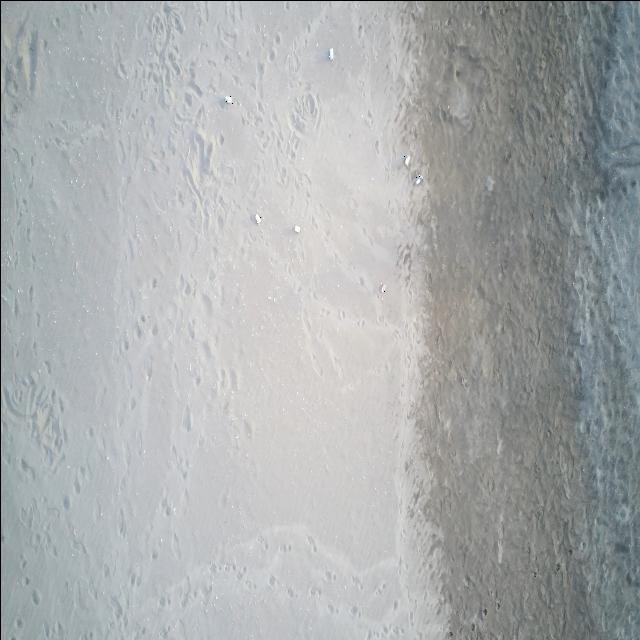Garbage: (413, 173, 423, 183), (403, 154, 409, 166), (292, 224, 300, 232), (379, 283, 386, 292), (327, 48, 332, 60), (224, 96, 232, 103), (255, 213, 260, 223)
